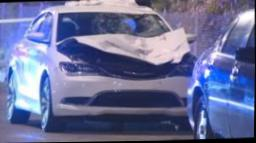Bonnet: (58, 33, 194, 72)
Windshield: (60, 9, 170, 38)
